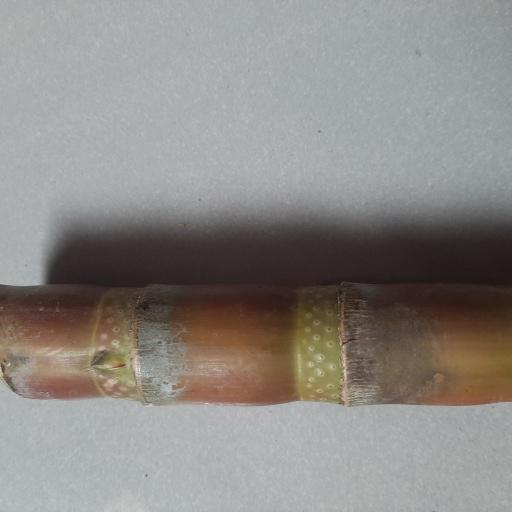Bud: (90, 352, 129, 377)
